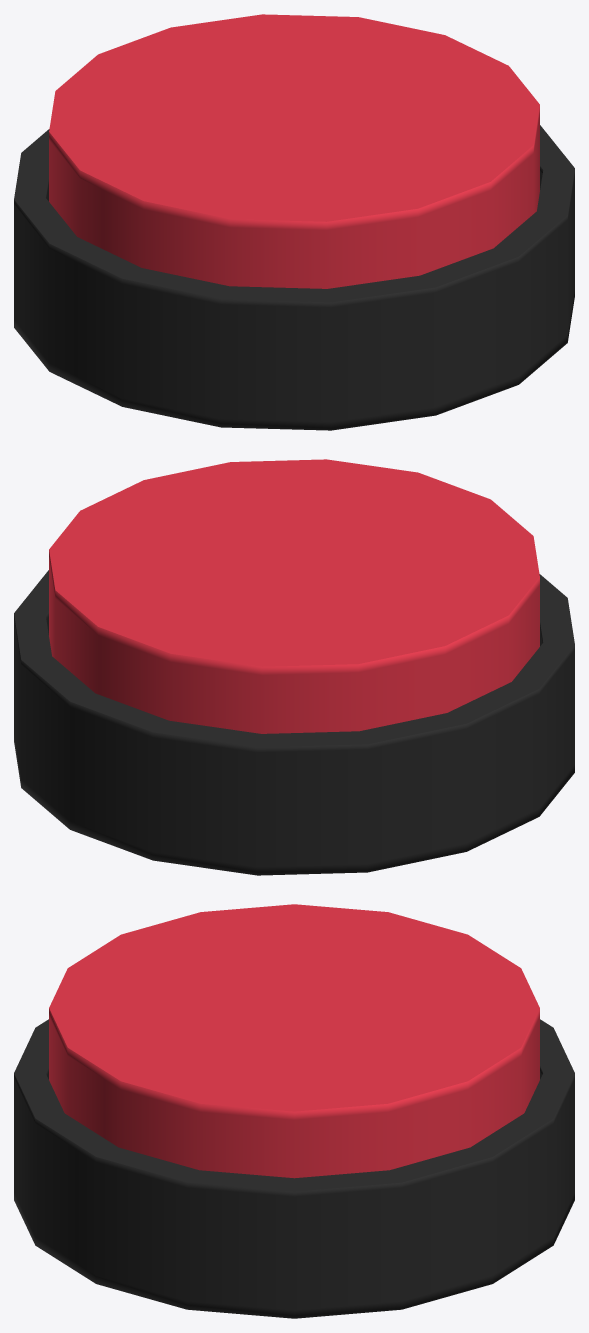
File: BigButton.fbx
3 renders of one model, top to bottom at view 1: azimuth 30°, elevation 25°; view 2: azimuth 150°, elevation 25°; view 3: azimuth 270°, elevation 25°, orthographic.
Parts seen in each view (by area): view 1: Button, Frame; view 2: Button, Frame; view 3: Button, Frame.
Part boxes in pixels (left/top/right/bottom): Button: left=49, top=14, right=539, bottom=288; Frame: left=14, top=125, right=574, bottom=430; Button: left=49, top=459, right=539, bottom=733; Frame: left=14, top=570, right=574, bottom=875; Button: left=49, top=904, right=539, bottom=1178; Frame: left=14, top=1019, right=574, bottom=1318.
Bounding box in the file's own units: 8 × 3.02 × 8.
